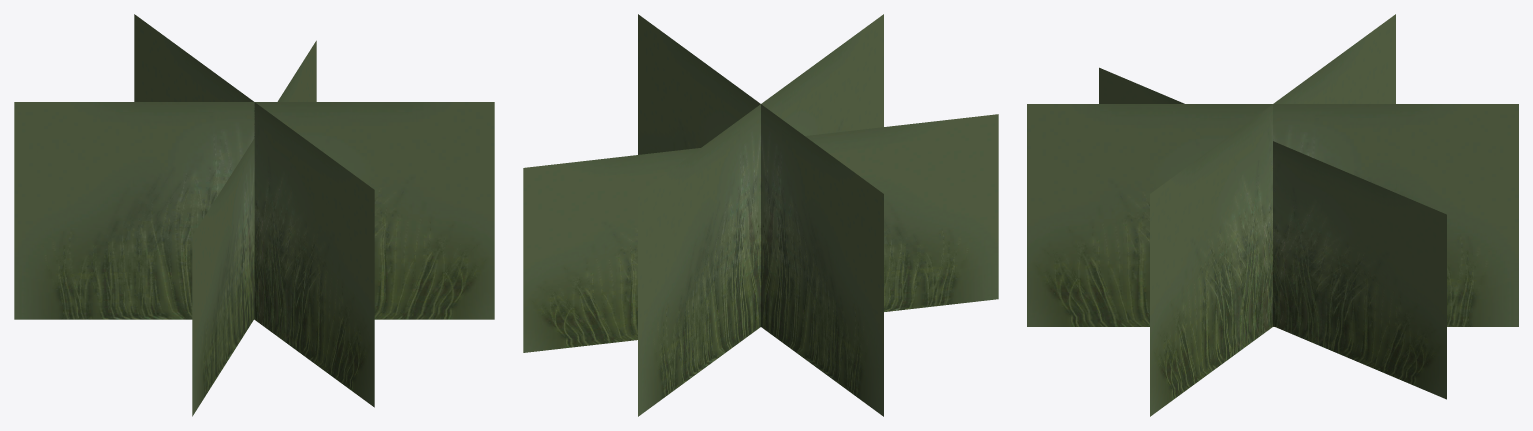
The model's file is Grass_.fbx.
The picture shows the model from 3 angles, left to right: view 1: azimuth 30°, elevation 25°; view 2: azimuth 150°, elevation 25°; view 3: azimuth 270°, elevation 25°; orthographic projection. The views are drawn at different scales.
Visible parts, largest first — view 1: grass1:grass1_0; view 2: grass1:grass1_0; view 3: grass1:grass1_0.
Part boxes in pixels (x1,y1,x2,y2): grass1:grass1_0: (14,14,494,416); grass1:grass1_0: (523,14,998,416); grass1:grass1_0: (1027,14,1518,416).
Bounding box in the file's own units: 4.42 × 2.55 × 5.1.
1 material, 1 textured.
